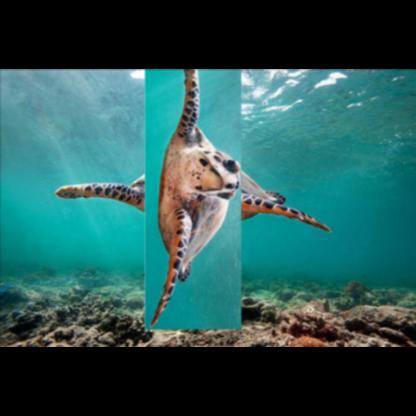turtle: (98, 92, 286, 282)
